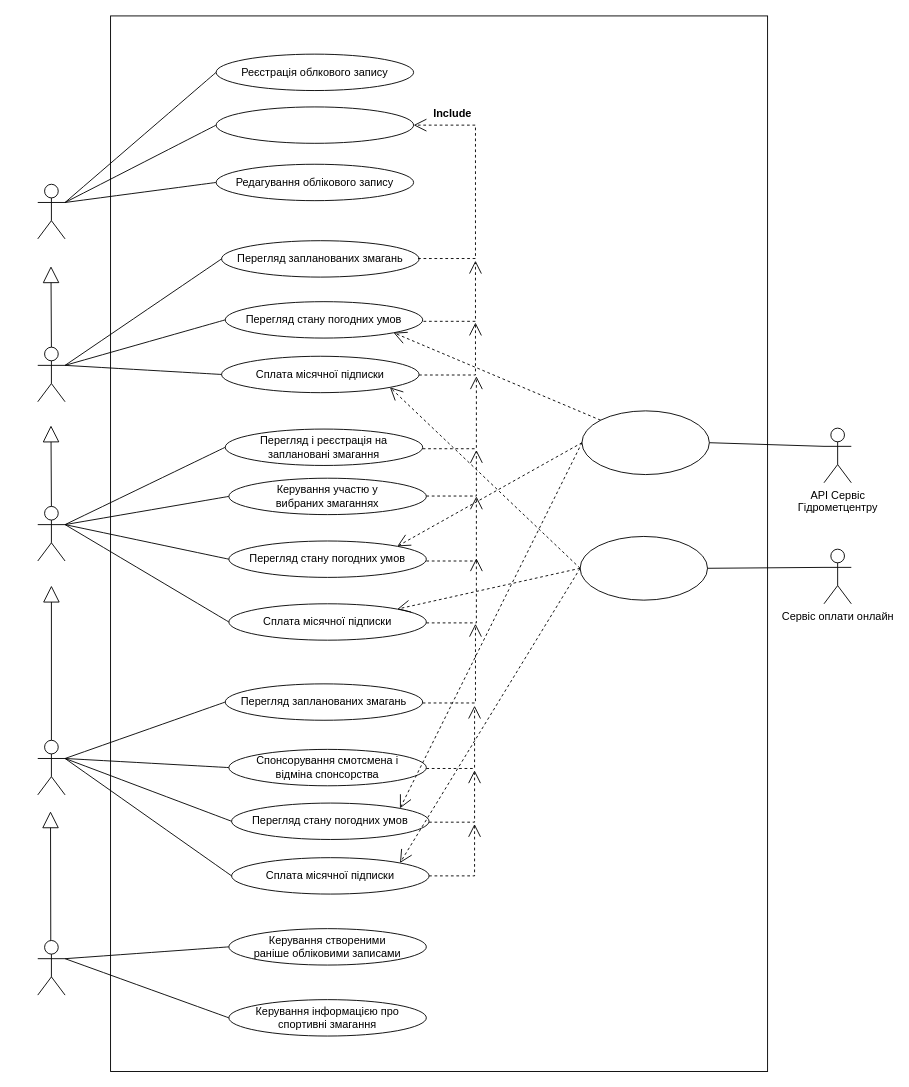
The diagram is 909 pixels wide and 1087 high, and some of its shapes have lost their labels. Each missing label, with the centre of its shape:
"Авторизація" goes at point 314,124.
"Адміністратор" goes at point 51,967.
"Глядач" goes at point 51,374.
"Залучення системи прогнозу погоди" goes at point 645,442.
"Залучення системи сплати онлайн" goes at point 643,568.
"Користувач" goes at point 51,211.
"Спонсор" goes at point 51,767.
"Спортсмен" goes at point 51,533.
